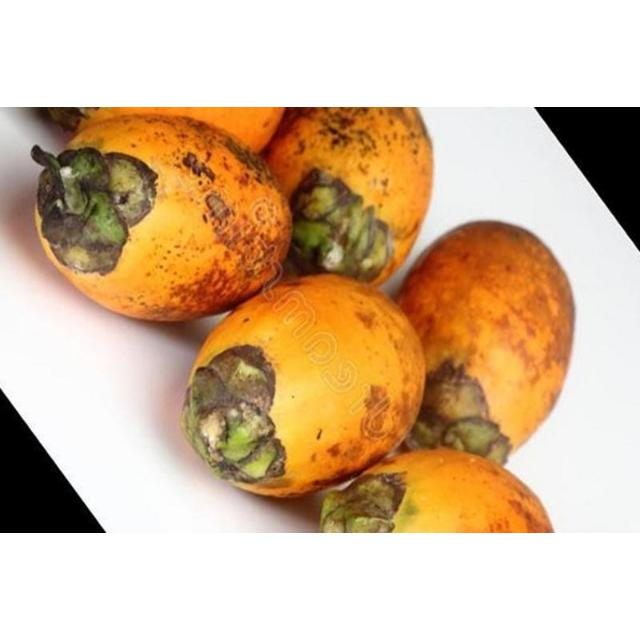good: (180, 275, 427, 501), (30, 116, 292, 323), (395, 221, 577, 457), (262, 107, 435, 286), (320, 450, 555, 533)
